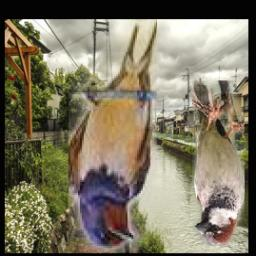Sparrow: (193, 81, 246, 247)
Swallow: (69, 19, 158, 252)
